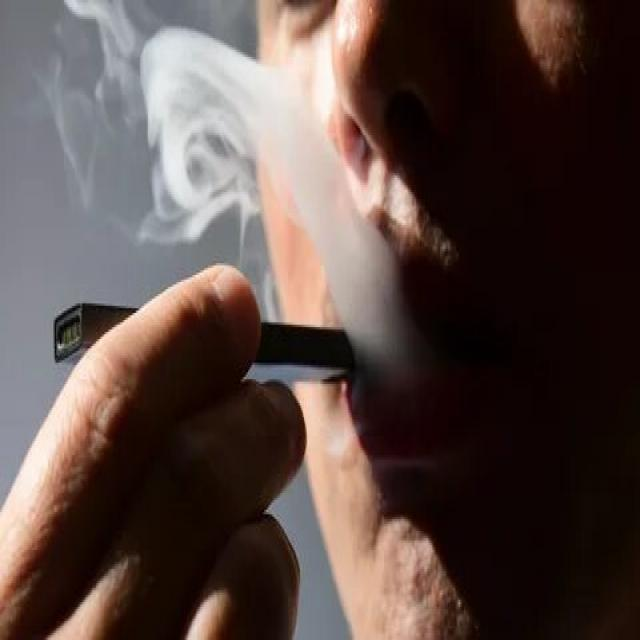smoke: (46, 292, 378, 388)
